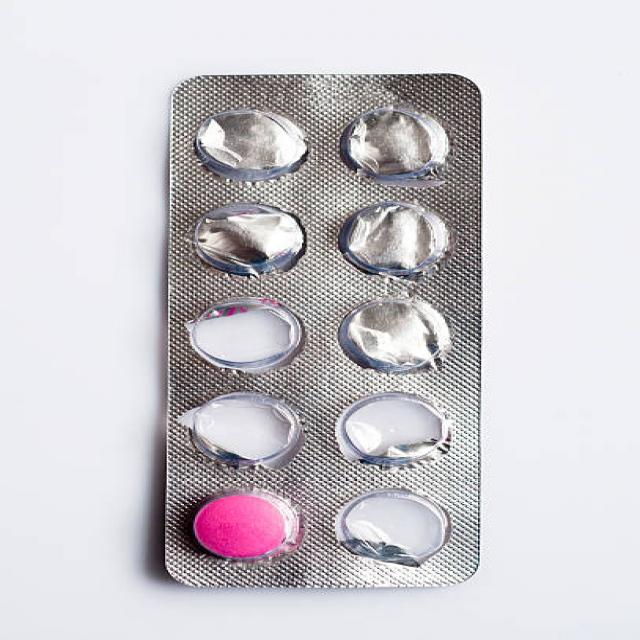Empty: (338, 289, 474, 389), (179, 387, 324, 474), (175, 288, 316, 377), (332, 92, 460, 190), (185, 93, 314, 189), (181, 194, 316, 284), (334, 197, 466, 285), (336, 391, 468, 478), (334, 486, 450, 580)
Pill: (180, 487, 306, 568)
